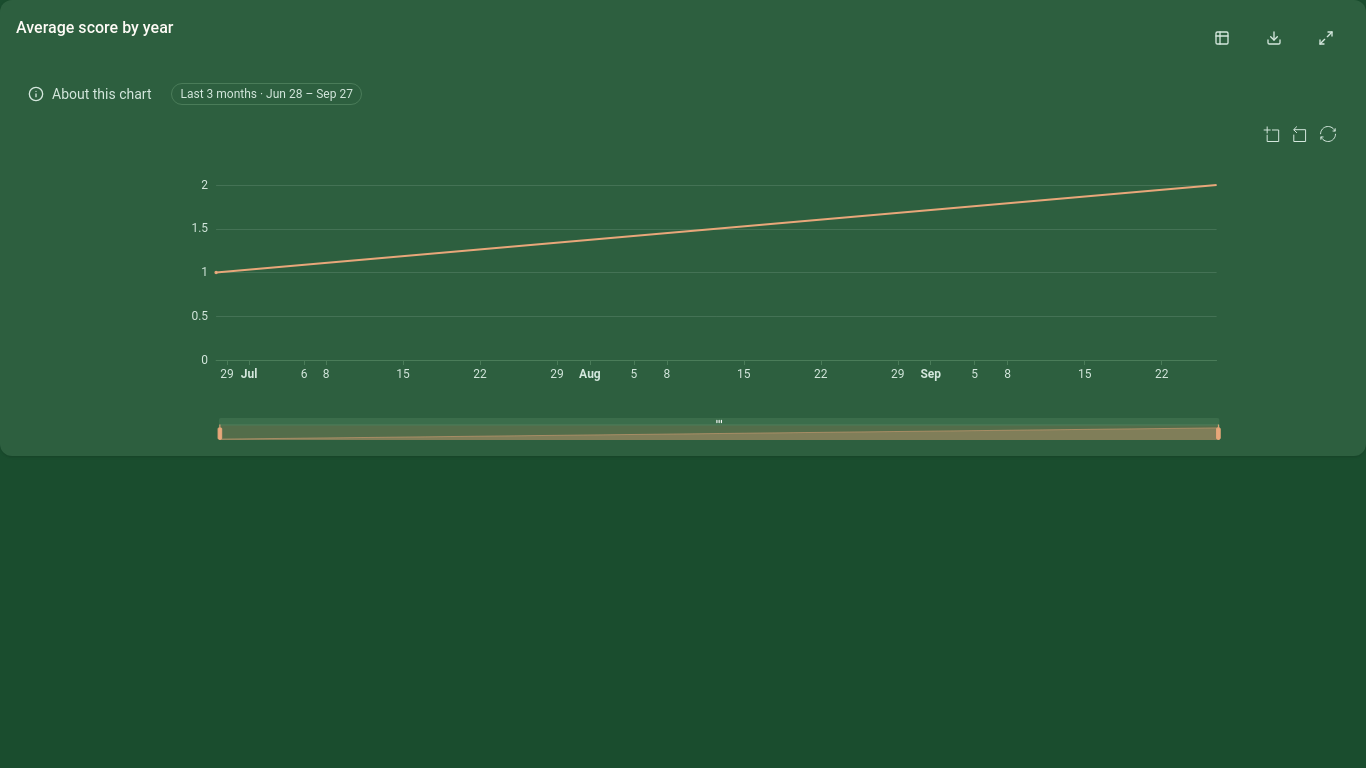
Test: ChartFrame › full data › scope tag › turns All time in fullscreen only when the chart has full data
Expected: the button "Last 3 months · Jun 28 – Sep 27" is shown, [172,83,362,105]
Click the button named "Fullscreen": (1326, 38) [1302,16,1350,60]
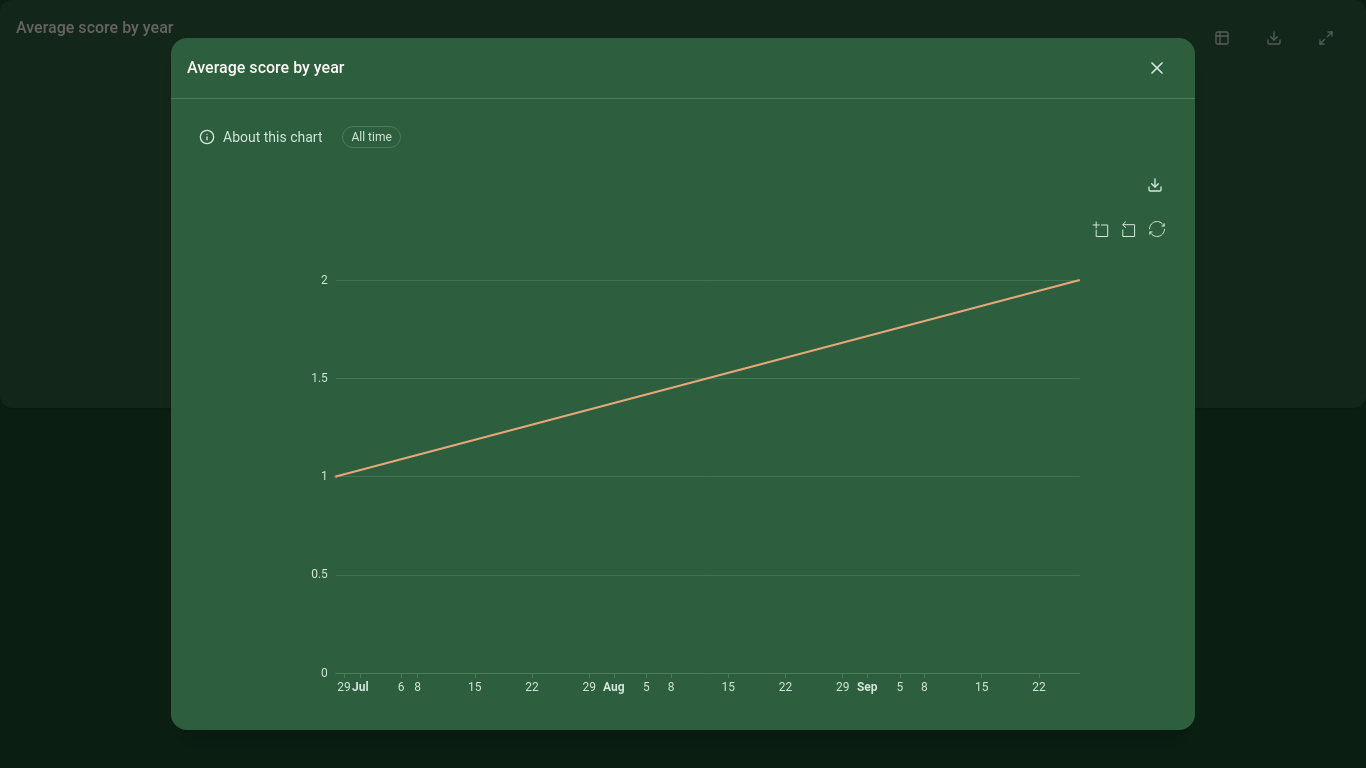
Expected: the button "All time" is shown, [342,126,401,148]
